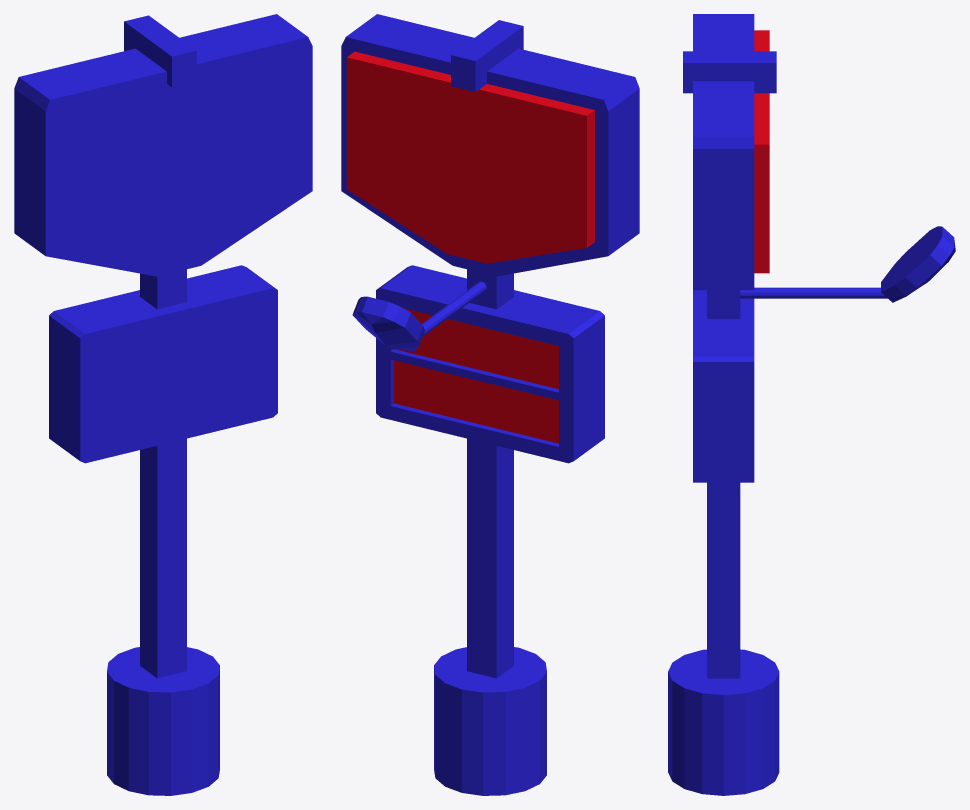
Rendered from gas_sign_2_a.glb.
3 renders of one model, left to right at view 1: azimuth 30°, elevation 25°; view 2: azimuth 150°, elevation 25°; view 3: azimuth 270°, elevation 25°, orthographic. The views are drawn at different scales.
Parts seen in each view (by area): view 1: Cube.001; view 2: Cube.001; view 3: Cube.001.
Part boxes in pixels (x1,y1,x2,y2): Cube.001: (14, 14, 312, 795); Cube.001: (341, 14, 639, 795); Cube.001: (668, 14, 955, 795).
Size of the model in its own units: 5.4 by 14.18 by 5.17.
